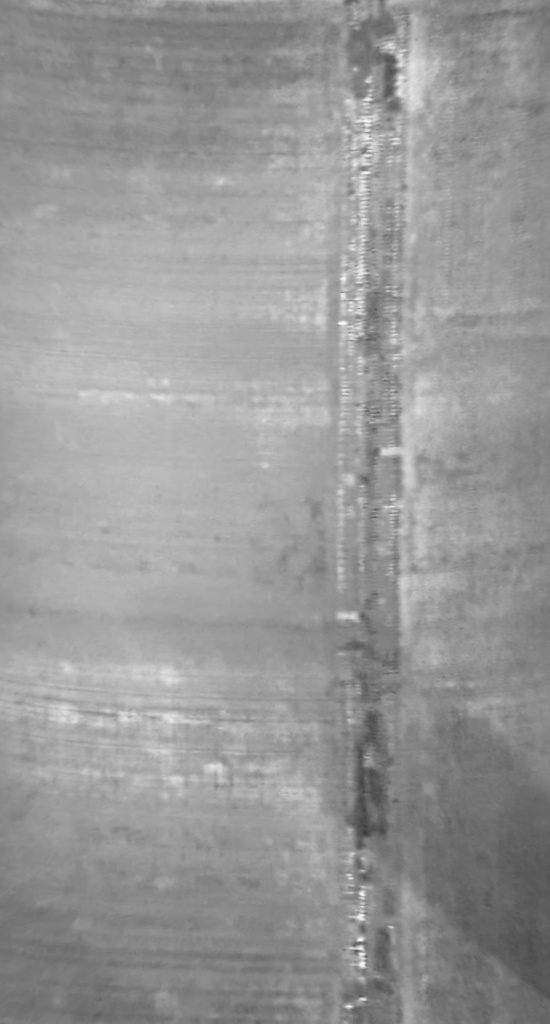splice: (338, 4, 435, 1024)
